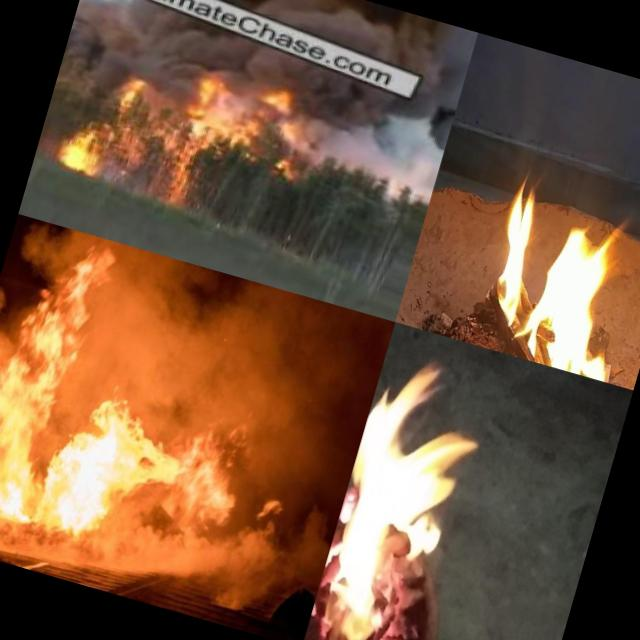fire: (301, 328, 517, 640), (456, 148, 640, 390), (32, 382, 254, 570), (0, 217, 118, 517), (164, 67, 301, 156), (33, 98, 124, 185)
smoke: (70, 240, 360, 460), (187, 474, 341, 630), (0, 496, 195, 608), (282, 92, 448, 200), (59, 0, 211, 107), (0, 280, 21, 532)
